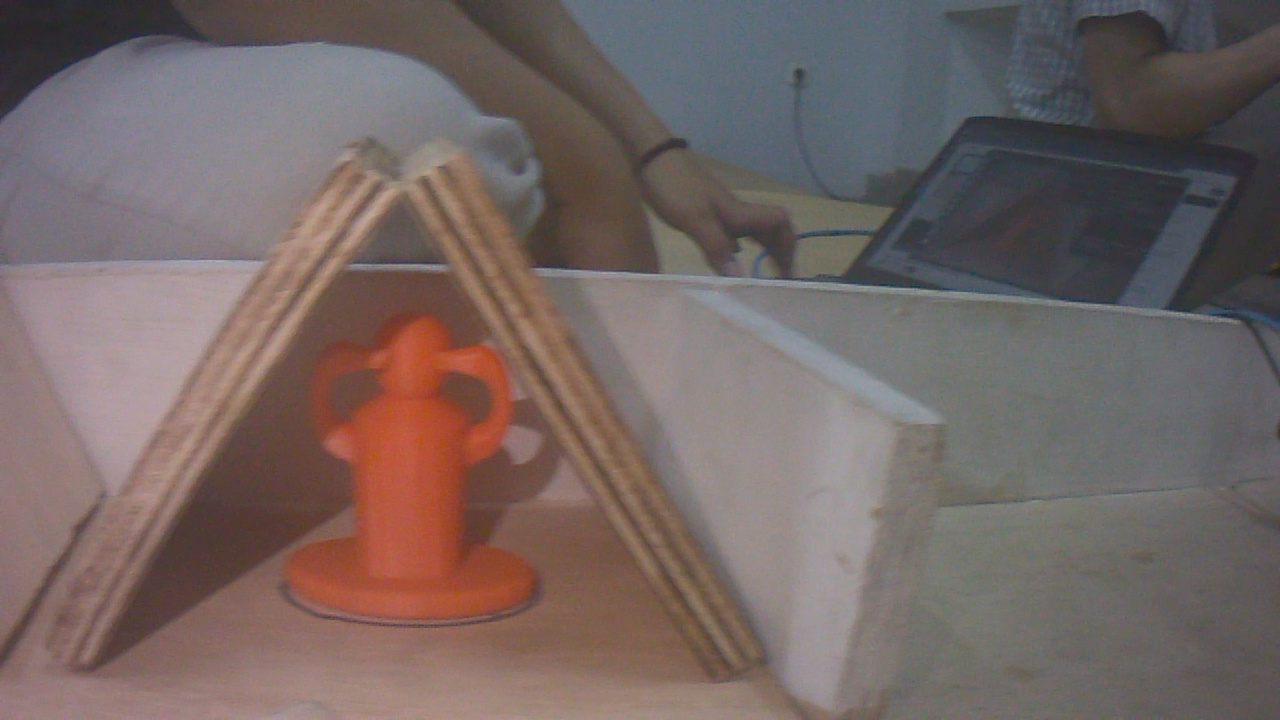real: (290, 320, 538, 623)
